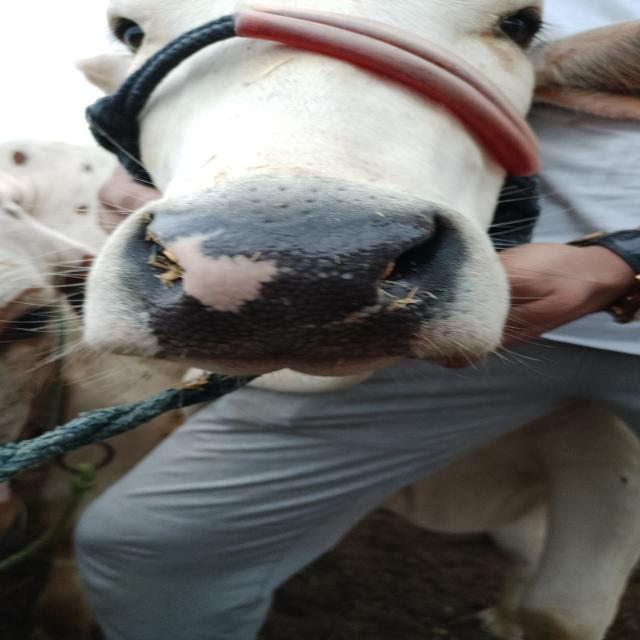muzzles: (96, 190, 483, 367)
